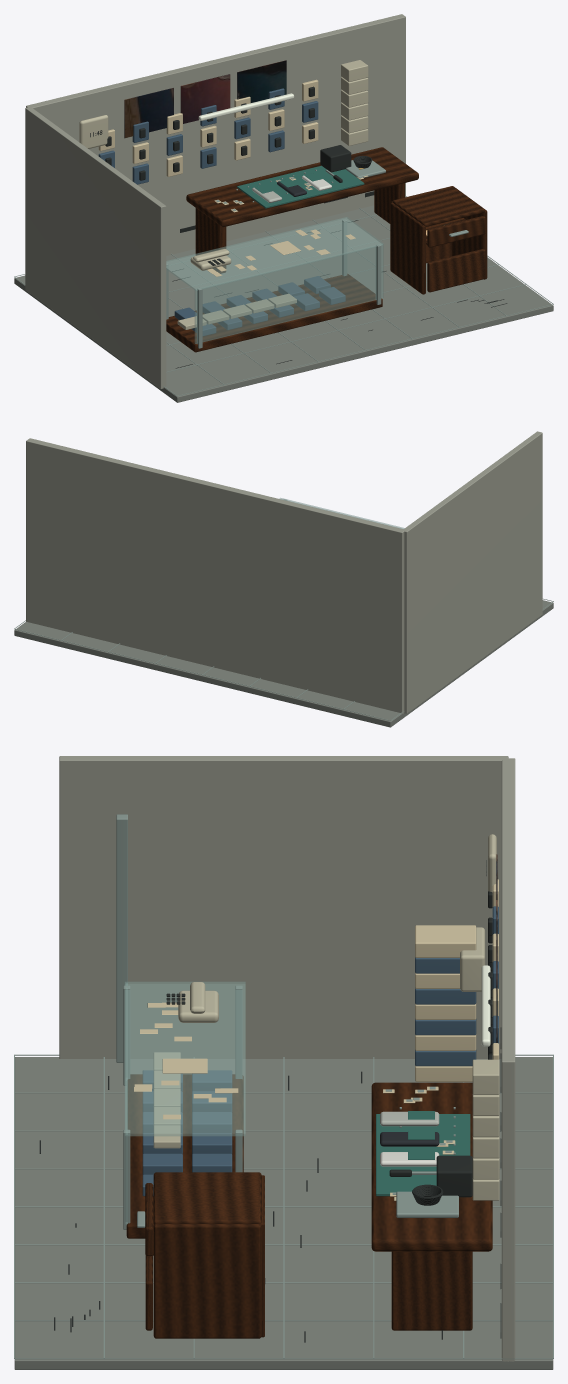
The model's file is oldlane-shop.glb.
3 views of the same model, one above another, from view 1: azimuth 30°, elevation 25°; view 2: azimuth 150°, elevation 25°; view 3: azimuth 270°, elevation 25° (orthographic). The views are drawn at different scales.
Parts seen in each view (by area): view 1: Floor, Rear_wall, Left_wall, Glass_front, Glass_top, Repair_bench, Glass_counter_base, Cabinet_left, Cabinet_top, Cutting_mat, Cabinet_lower_front, Faded phone poster 1 (+10 smaller); view 2: Rear_wall, Left_wall, Floor, Tile_line_-3; view 3: Left_wall, Floor, Glass_top, Cabinet_right, Rear_wall, Repair_bench, Bench_leg.001, Cabinet_top, Glass_counter_base, Cutting_mat, Door_frame, Secondhand_box_8 (+22 smaller).
Part boxes in pixels (x1,y1,x2,y2): Floor: (14, 205, 553, 402); Rear_wall: (26, 14, 405, 255); Left_wall: (25, 107, 166, 388); Glass_front: (194, 244, 383, 343); Glass_top: (166, 217, 383, 290); Repair_bench: (186, 147, 418, 227); Glass_counter_base: (166, 274, 382, 352); Cabinet_left: (390, 202, 425, 294); Cabinet_top: (392, 186, 484, 226); Cutting_mat: (237, 165, 364, 208); Cabinet_lower_front: (427, 249, 485, 292); Faded phone poster 1: (180, 74, 230, 123); Rear_wall: (26, 438, 404, 713); Left_wall: (404, 431, 542, 713); Floor: (14, 600, 553, 727); Tile_line_-3: (14, 629, 390, 720); Left_wall: (59, 756, 508, 1058); Floor: (14, 1057, 553, 1369); Glass_top: (124, 981, 245, 1136); Cabinet_right: (153, 1224, 261, 1338); Rear_wall: (501, 758, 515, 1361); Repair_bench: (371, 1082, 492, 1251); Bench_leg.001: (391, 1251, 472, 1330); Cabinet_top: (153, 1172, 261, 1224); Glass_counter_base: (126, 1074, 243, 1238); Cutting_mat: (376, 1114, 470, 1196); Door_frame: (116, 814, 127, 1062); Secondhand_box_8: (415, 925, 476, 957).
Size of the model in its own units: 8.07 by 3.79 by 6.01.
21 materials, 7 textured.
